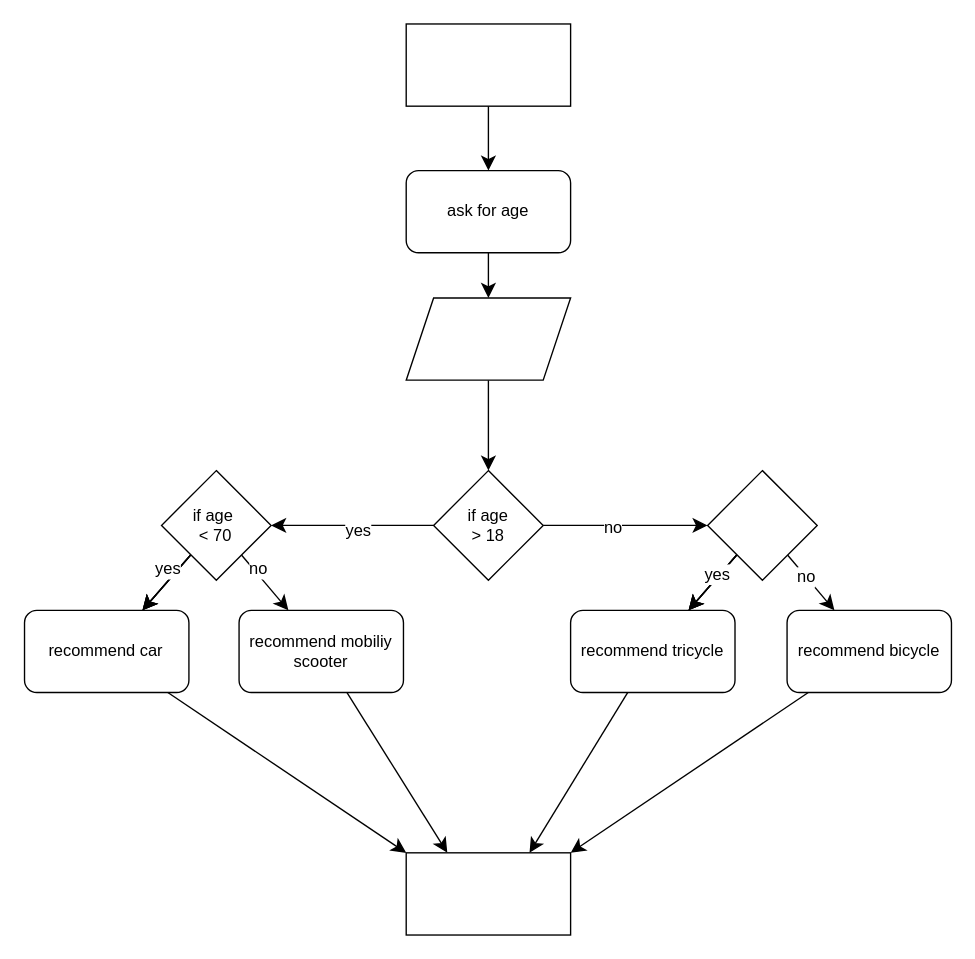
Some shapes in this 975 by 959 pixel diagram are drawn without their labels. Here are the shapes that lost their labels. From the top down, the box of each, then its label:
(405, 297, 571, 380): age
(706, 469, 817, 580): if age < 7
(405, 851, 571, 935): end
